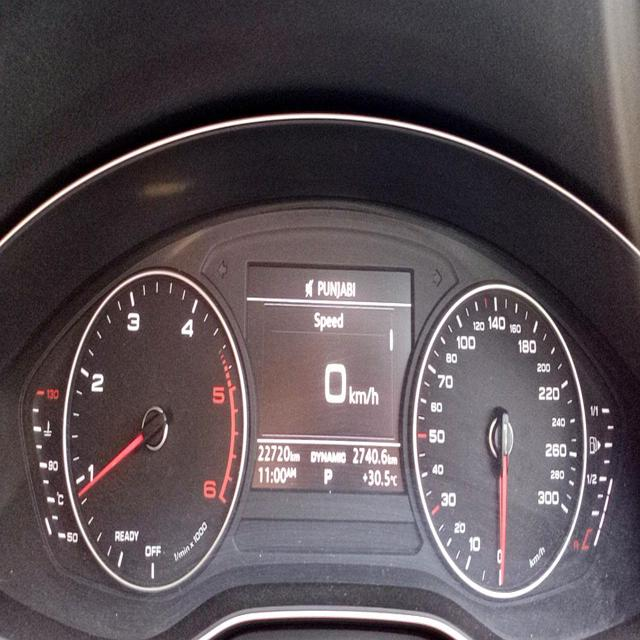odometer: (256, 443, 291, 465)
